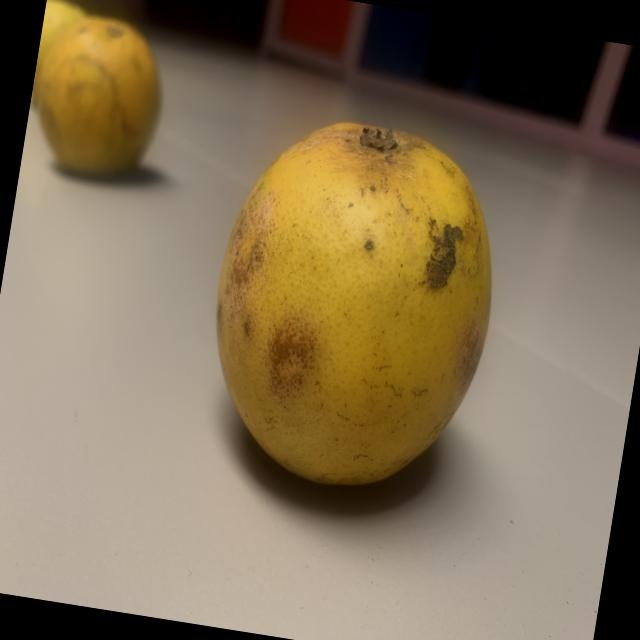agrume: (182, 85, 530, 522), (18, 0, 201, 204)
